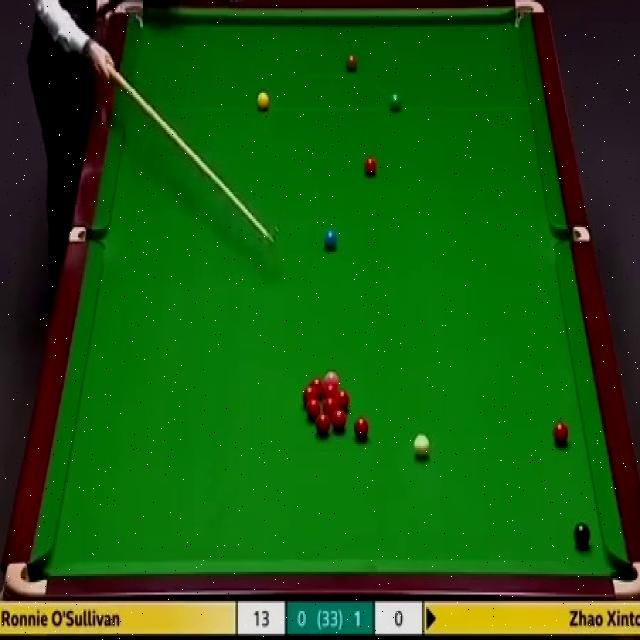black-ball: (574, 520, 590, 548)
blue-ball: (322, 228, 338, 252)
brown-ball: (346, 54, 359, 69)
green-ball: (388, 91, 403, 110)
pink-ball: (324, 371, 340, 381)
red-ball: (331, 408, 347, 430), (354, 417, 370, 438), (306, 398, 320, 420), (364, 154, 377, 177), (554, 421, 568, 442), (337, 389, 351, 410), (316, 413, 330, 433), (310, 376, 324, 393), (301, 386, 316, 399), (325, 380, 337, 396), (323, 398, 338, 410)
white-ball: (413, 432, 434, 462)
yellow-ball: (256, 90, 269, 110)
